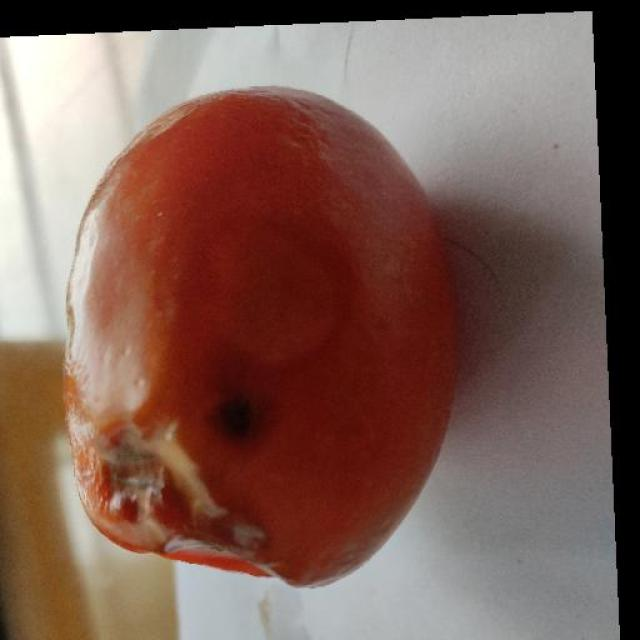Stale_tomato: (74, 95, 420, 585)
